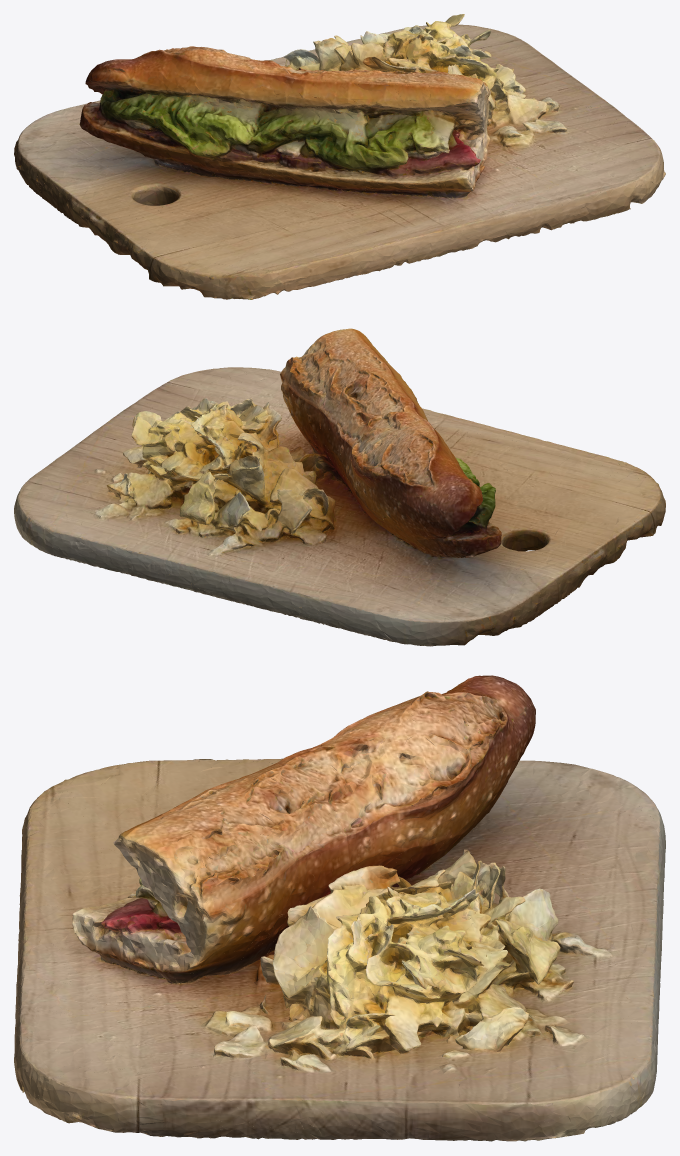
The model's file is sanduiche-caseiro.glb.
The picture shows the model from 3 angles, top to bottom: view 1: azimuth 30°, elevation 25°; view 2: azimuth 150°, elevation 25°; view 3: azimuth 270°, elevation 25°; orthographic projection. The views are drawn at different scales.
Parts seen in each view (by area): view 1: model_tex_u1_v1_1, model_tex_u1_v1_0, model_tex_u1_v1_0_2; view 2: model_tex_u1_v1_0, model_tex_u1_v1_1, model_tex_u1_v1_0_2; view 3: model_tex_u1_v1_0, model_tex_u1_v1_1, model_tex_u1_v1_0_2.
Boxes of the visible parts, <box> form: model_tex_u1_v1_1: <box>14,15,660,299</box>; model_tex_u1_v1_0: <box>14,24,665,254</box>; model_tex_u1_v1_0_2: <box>46,14,658,299</box>; model_tex_u1_v1_0: <box>14,328,612,630</box>; model_tex_u1_v1_1: <box>14,329,665,646</box>; model_tex_u1_v1_0_2: <box>14,340,653,623</box>; model_tex_u1_v1_0: <box>19,675,659,1141</box>; model_tex_u1_v1_1: <box>14,691,665,1139</box>; model_tex_u1_v1_0_2: <box>14,681,664,1140</box>.
Size of the model in its own units: 0.1616 by 0.0401 by 0.1247.
1 material, 1 textured.
